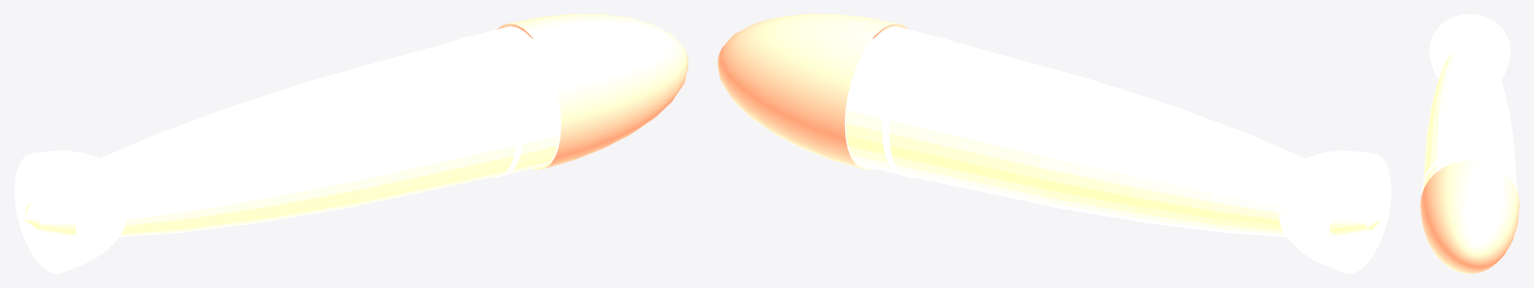
Rendered from RocketOrange.glb.
The picture shows the model from 3 angles, left to right: view 1: azimuth 30°, elevation 25°; view 2: azimuth 150°, elevation 25°; view 3: azimuth 270°, elevation 25°; orthographic projection. The views are drawn at different scales.
Visible parts, largest first — view 1: Main Exhaust, Bell, End Wave, Bell Wave; view 2: Main Exhaust, Bell, End Wave, Bell Wave; view 3: Bell, Main Exhaust, End Wave, Bell Wave.
Boxes of the visible parts, x1,y1,x2,y2 form: Main Exhaust: (23, 26, 560, 237); Bell: (497, 14, 688, 170); End Wave: (14, 150, 126, 273); Bell Wave: (458, 35, 561, 177); Main Exhaust: (845, 26, 1382, 237); Bell: (717, 14, 908, 170); End Wave: (1279, 150, 1391, 273); Bell Wave: (844, 35, 947, 177); Bell: (1420, 160, 1519, 273); Main Exhaust: (1423, 47, 1516, 190); End Wave: (1429, 14, 1510, 79); Bell Wave: (1422, 148, 1517, 192).
Size of the model in its own units: 10.56 by 2.08 by 2.08.
